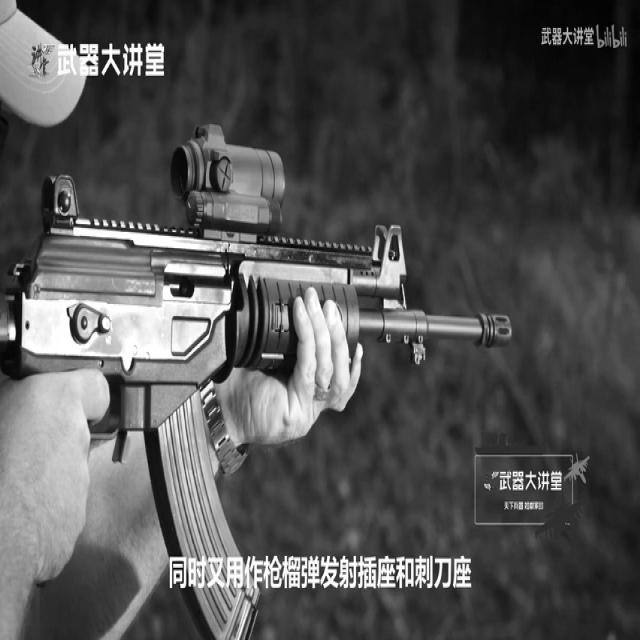Rifle: (0, 91, 545, 640)
